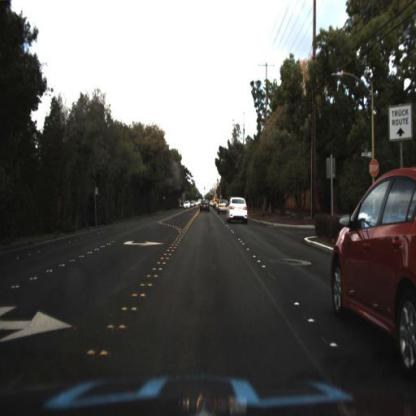car: (328, 159, 416, 374), (227, 194, 254, 226), (216, 196, 231, 216), (198, 199, 211, 217)
